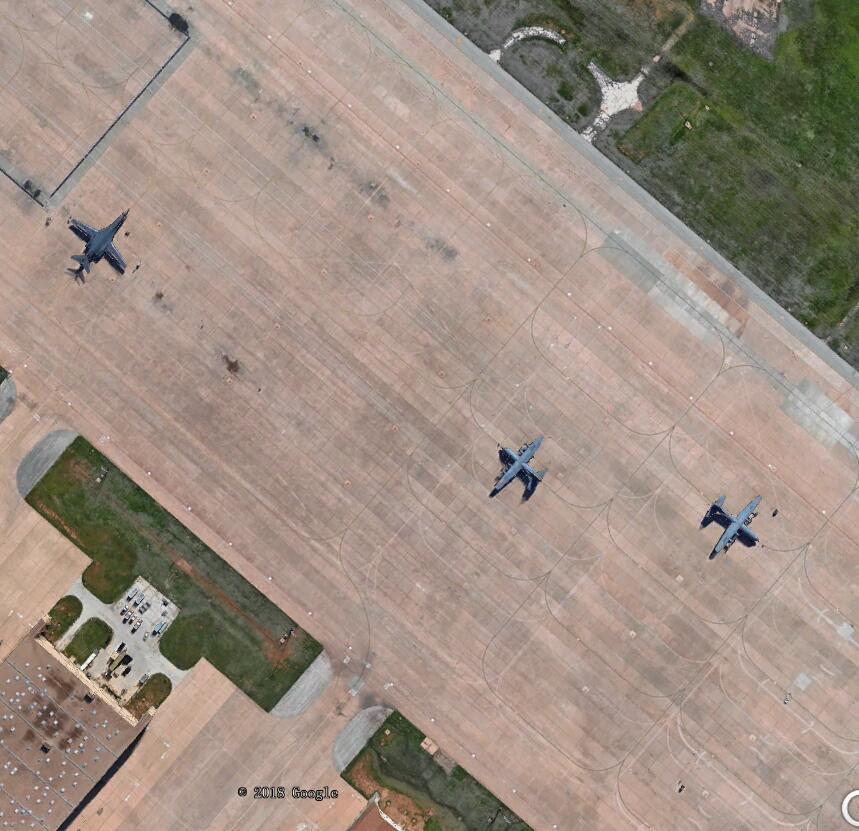A10: (58, 205, 134, 285)
A2: (694, 487, 770, 562), (485, 427, 554, 500)
